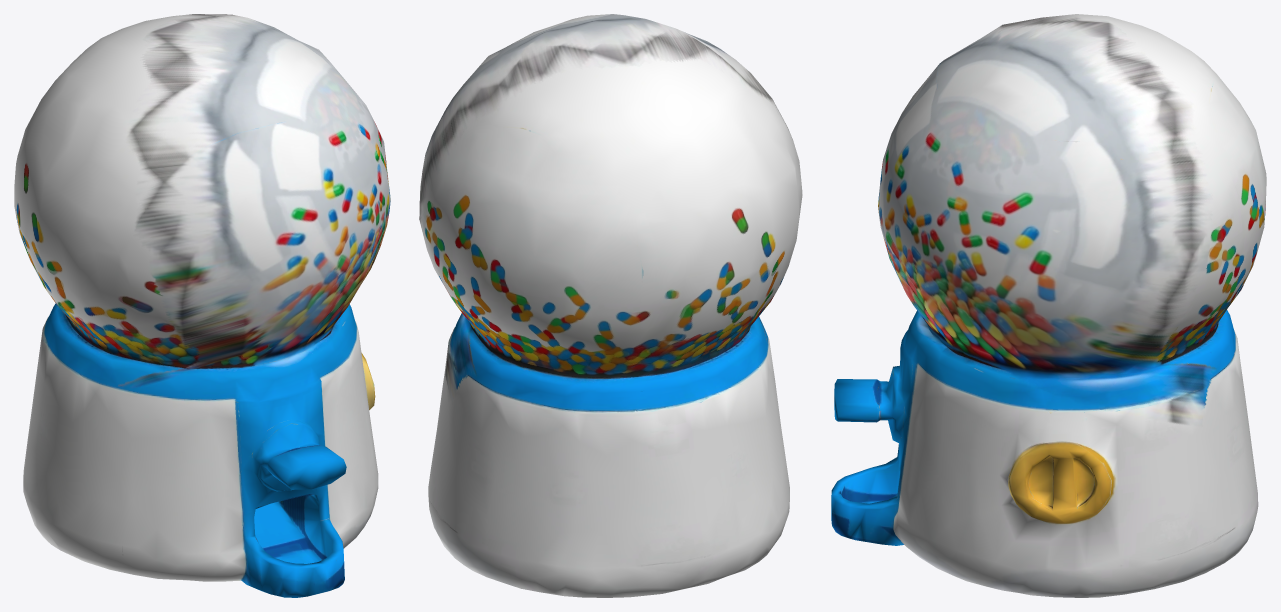
Rendered from Meshy_AI_Colorful_Capsule_Gumb_0401041423_texture.fbx.
The picture shows the model from 3 angles, left to right: view 1: azimuth 30°, elevation 25°; view 2: azimuth 150°, elevation 25°; view 3: azimuth 270°, elevation 25°; orthographic projection. The views are drawn at different scales.
Parts seen in each view (by area): view 1: Mesh1.0; view 2: Mesh1.0; view 3: Mesh1.0.
Part boxes in pixels (x1=…): Mesh1.0: x1=14, y1=14, x2=390, y2=597; Mesh1.0: x1=419, y1=14, x2=802, y2=597; Mesh1.0: x1=831, y1=14, x2=1266, y2=597.
Size of the model in its own units: 134 by 191 by 154.
Materials: 1 (1 with a texture image).
